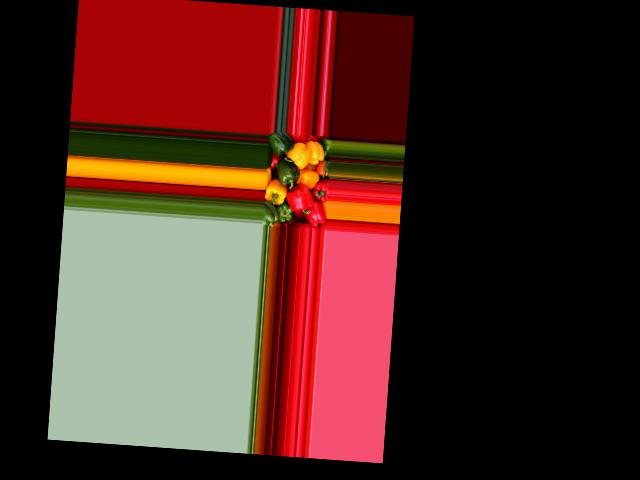bell_pepper: (319, 138, 332, 160)
